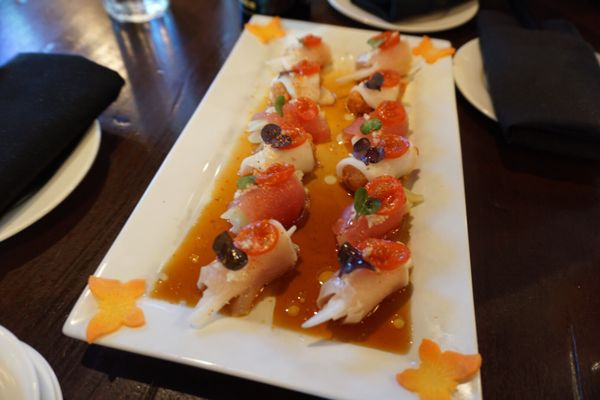curry: (2, 3, 593, 398)
sushi: (151, 26, 428, 331)
